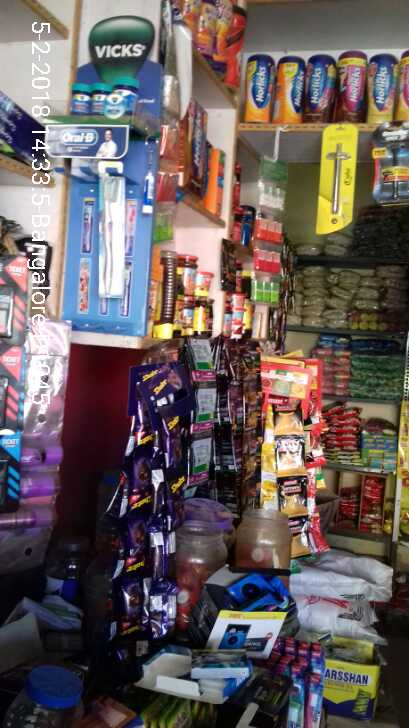oralb: (94, 176, 133, 304)
